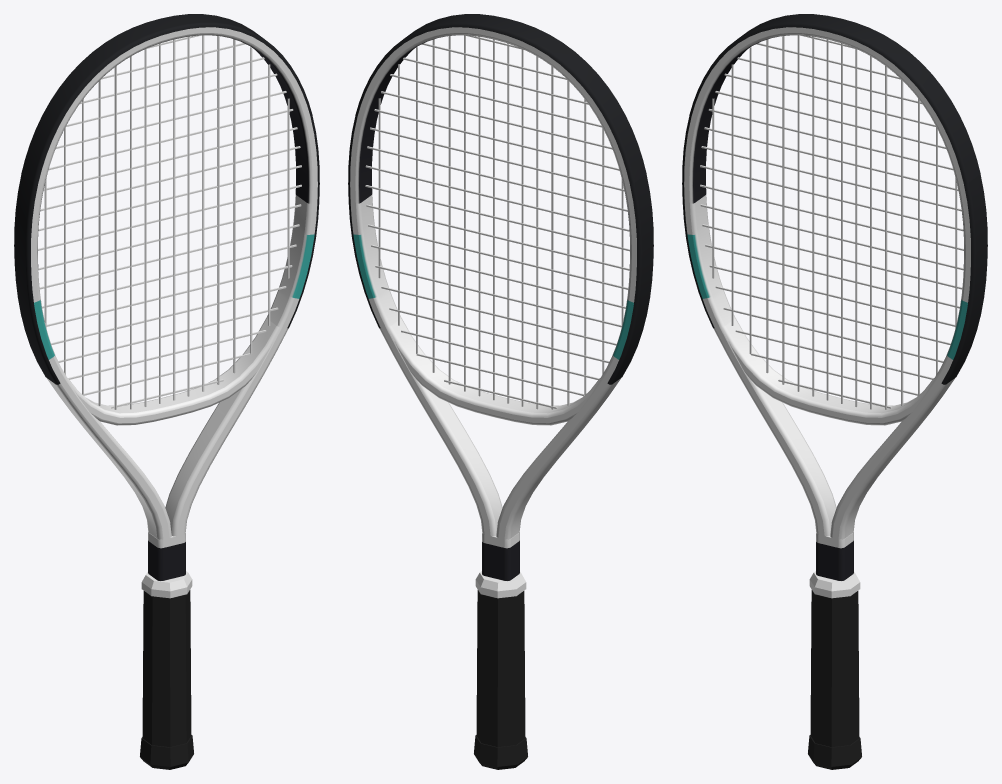
The model's file is prince-tour-25-junior.glb.
3 renders of one model, left to right at view 1: azimuth 30°, elevation 25°; view 2: azimuth 150°, elevation 25°; view 3: azimuth 330°, elevation 25°, orthographic.
Parts seen in each view (by area): view 1: frame, strings_mains, strings_crosses, grip, bumper, grommets, butt_cap, collar; view 2: frame, strings_mains, strings_crosses, grip, bumper, grommets, butt_cap, collar; view 3: frame, strings_mains, strings_crosses, grip, bumper, grommets, butt_cap, collar.
Part boxes in pixels (bbox=[...]): frame: bbox=[31, 27, 317, 580]; strings_mains: bbox=[44, 35, 289, 409]; strings_crosses: bbox=[38, 35, 301, 408]; grip: bbox=[142, 590, 191, 747]; bumper: bbox=[21, 14, 312, 183]; grommets: bbox=[14, 116, 319, 384]; butt_cap: bbox=[140, 735, 193, 769]; collar: bbox=[141, 571, 192, 598]; frame: bbox=[350, 27, 636, 580]; strings_mains: bbox=[378, 35, 623, 409]; strings_crosses: bbox=[365, 35, 629, 408]; grip: bbox=[476, 590, 525, 747]; bumper: bbox=[355, 14, 646, 183]; grommets: bbox=[348, 116, 653, 384]; butt_cap: bbox=[474, 735, 527, 769]; collar: bbox=[475, 571, 526, 598]; frame: bbox=[684, 27, 970, 580]; strings_mains: bbox=[712, 35, 957, 409]; strings_crosses: bbox=[700, 35, 963, 408]; grip: bbox=[810, 590, 859, 747]; bumper: bbox=[689, 14, 980, 183]; grommets: bbox=[682, 116, 987, 384]; butt_cap: bbox=[808, 735, 861, 769]; collar: bbox=[809, 571, 860, 598].
Size of the model in its own units: 0.2649 by 0.6353 by 0.0396.
